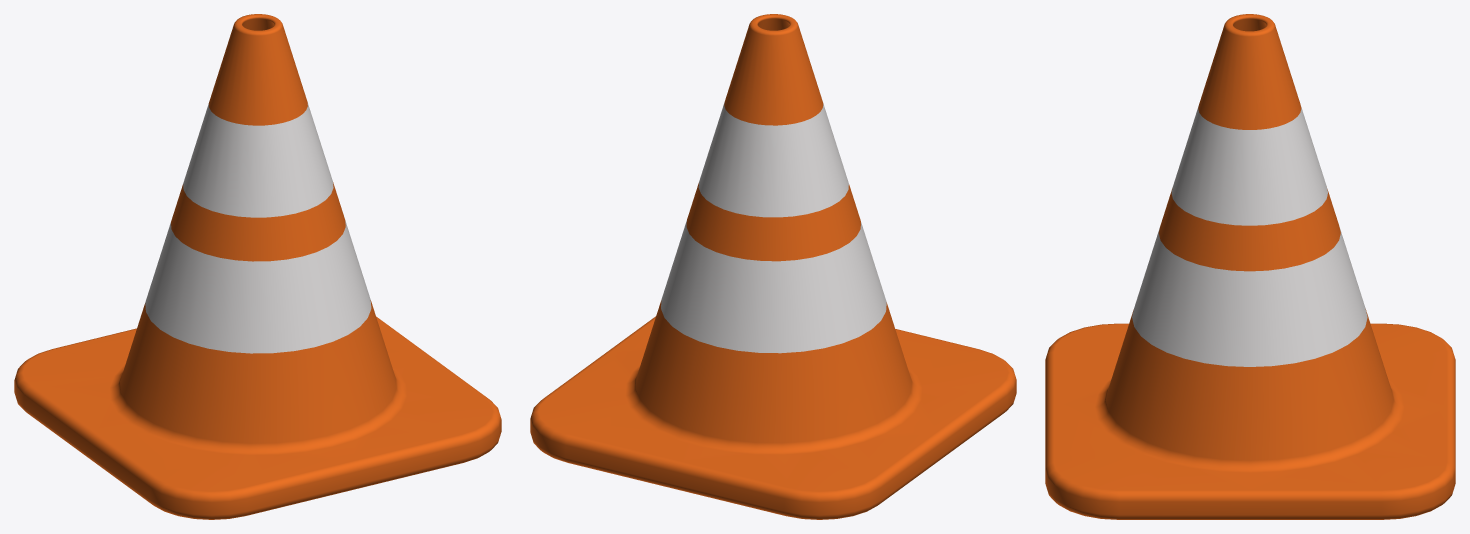
The model's file is traffic_cone.glb.
The picture shows the model from 3 angles, left to right: view 1: azimuth 30°, elevation 25°; view 2: azimuth 150°, elevation 25°; view 3: azimuth 270°, elevation 25°; orthographic projection. The views are drawn at different scales.
Parts seen in each view (by area): view 1: Cone; view 2: Cone; view 3: Cone.
Part boxes in pixels (<box>): Cone: <box>14,14,501,519</box>; Cone: <box>530,14,1016,519</box>; Cone: <box>1045,14,1455,519</box>.
Size of the model in its own units: 2 by 2.22 by 2.
